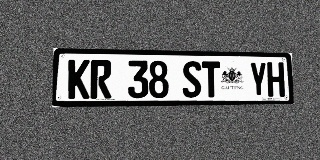3: (128, 60, 148, 98)
8: (149, 61, 169, 98)
H: (267, 62, 285, 97)
K: (68, 59, 90, 99)
R: (90, 60, 112, 99)
S: (182, 61, 202, 98)
T: (202, 61, 221, 97)
Y: (249, 62, 267, 97)
